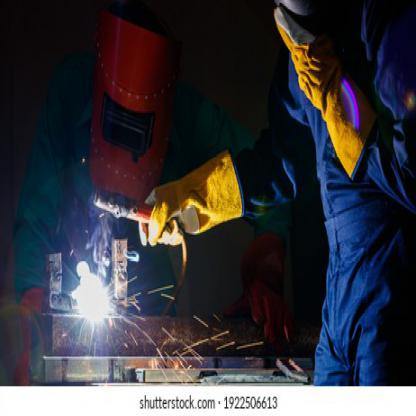with_gloves: (276, 6, 376, 189), (139, 152, 246, 247)
